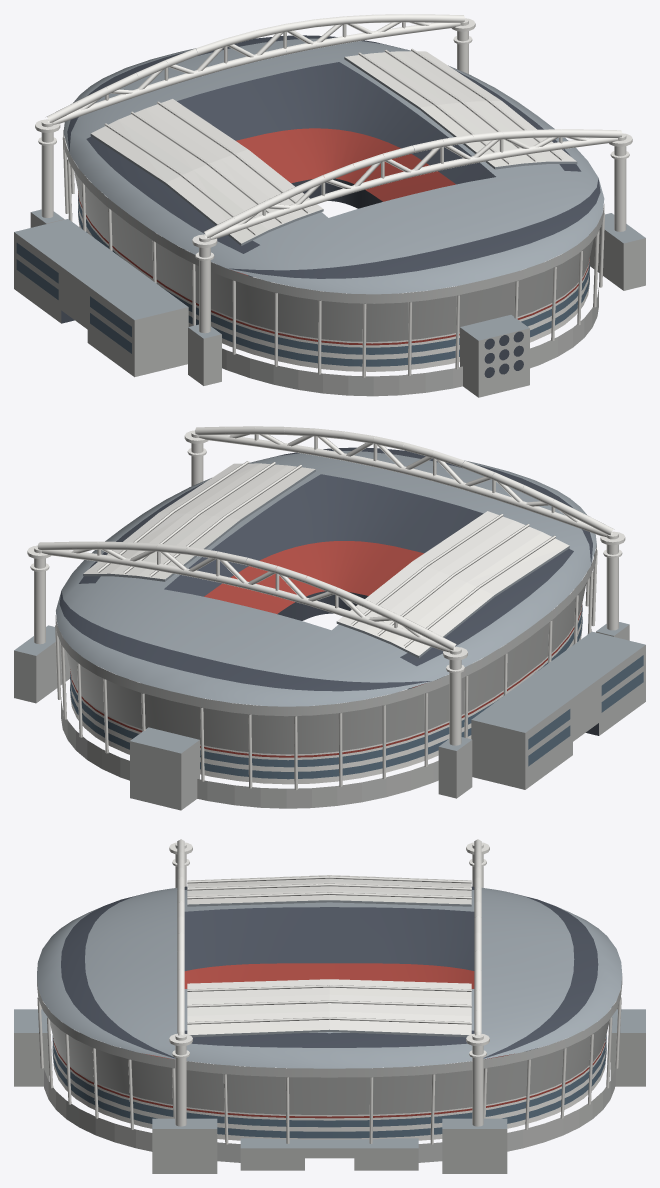
File: amsterdam-johan-cruijff-arena.glb
The picture shows the model from 3 angles, top to bottom: view 1: azimuth 30°, elevation 25°; view 2: azimuth 150°, elevation 25°; view 3: azimuth 270°, elevation 25°; orthographic projection. The views are drawn at different scales.
Visible parts, largest first — view 1: Johan Cruijff ArenA; view 2: Johan Cruijff ArenA; view 3: Johan Cruijff ArenA.
Part boxes in pixels (x1,y1,x2,y2): Johan Cruijff ArenA: (14, 14, 645, 397); Johan Cruijff ArenA: (14, 426, 645, 810); Johan Cruijff ArenA: (14, 839, 645, 1173).
Bounding box in the file's own units: 211 × 76.7 × 255.
